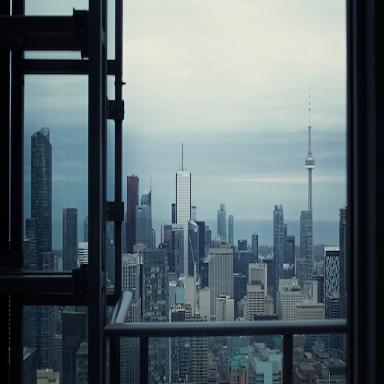glass_panel: (125, 4, 344, 318), (23, 76, 86, 270), (294, 335, 346, 384), (148, 337, 169, 383)
